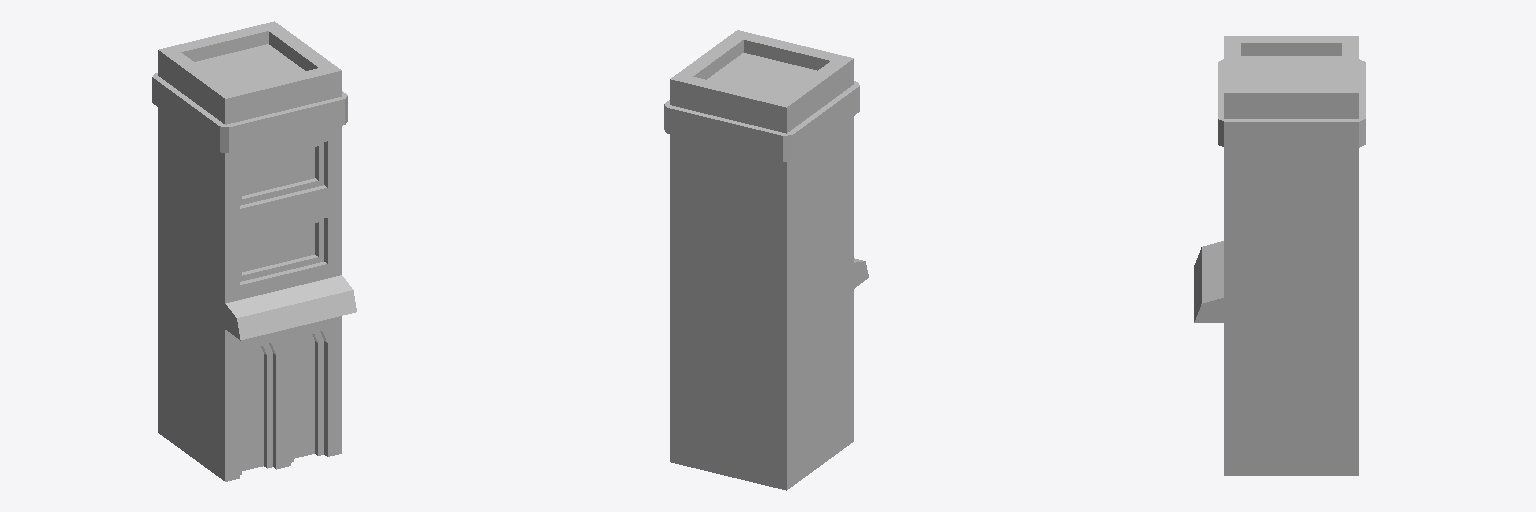
Rendered from building-sample-tower-c.obj.
The picture shows the model from 3 angles: view 1: azimuth 30°, elevation 25°; view 2: azimuth 150°, elevation 25°; view 3: azimuth 270°, elevation 25°; orthographic projection.
Parts seen in each view (by area): view 1: building-sample-tower-c; view 2: building-sample-tower-c; view 3: building-sample-tower-c.
Boxes of the visible parts, box(x1,y1,x2,y2) form: building-sample-tower-c: box(152, 21, 356, 481); building-sample-tower-c: box(664, 30, 868, 490); building-sample-tower-c: box(1194, 36, 1365, 475).
Bounding box in the file's own units: 1.1 × 3.14 × 1.27.